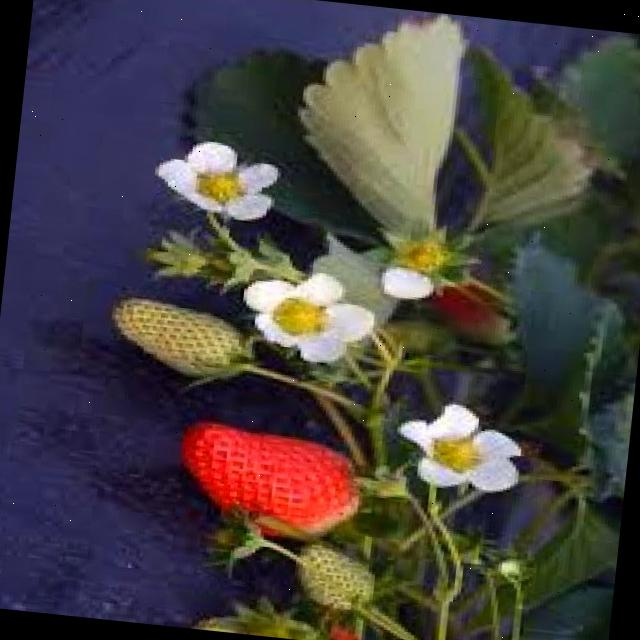strawberry: (174, 418, 365, 536), (103, 292, 245, 381), (288, 539, 378, 610)
